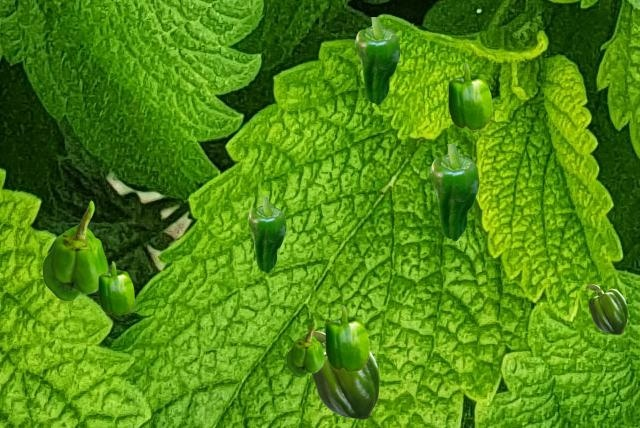bell_pepper: (42, 200, 107, 300), (311, 331, 378, 418), (430, 144, 478, 240), (355, 17, 399, 104), (325, 305, 368, 371), (448, 63, 491, 129), (248, 197, 285, 272), (286, 319, 323, 376), (585, 284, 626, 333), (98, 261, 133, 314)
